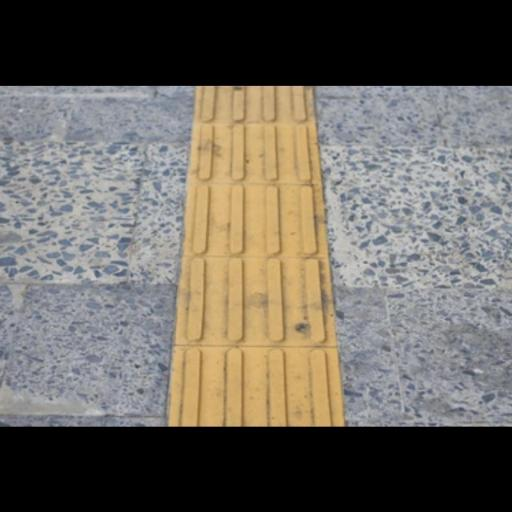line: (173, 254, 338, 346), (167, 345, 347, 428), (183, 178, 332, 254), (185, 119, 322, 185)
